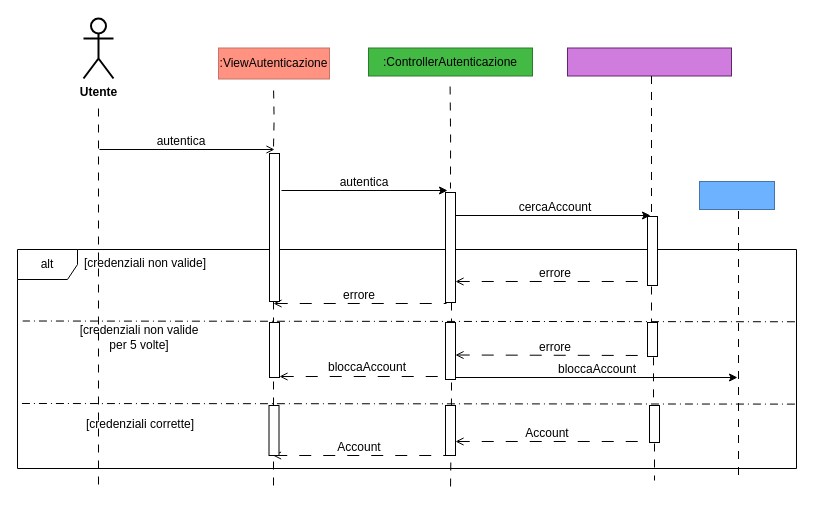
The diagram is 814 pixels wide and 512 high, and some of its shapes have lost their labels. The centre of each missing label's shape, as x and y in pixels:
":ContestoStudyLink" goes at pixel 649 61.
":Utente" goes at pixel 736 195.
